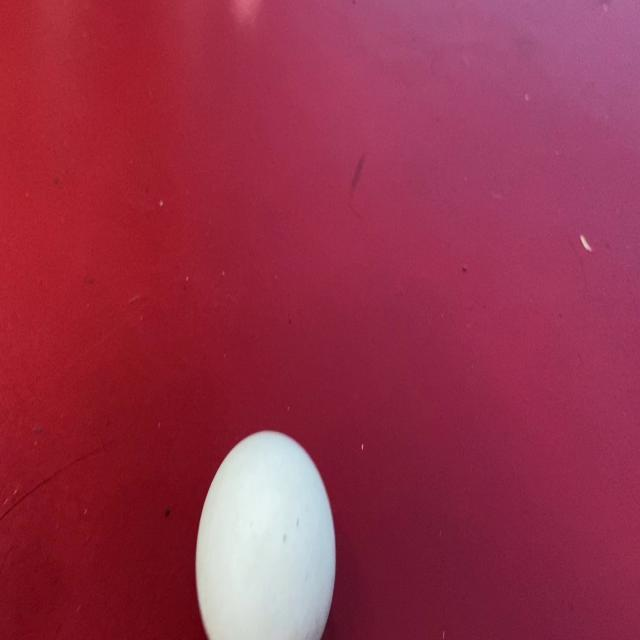ping-pong-ball: (192, 426, 340, 640)
